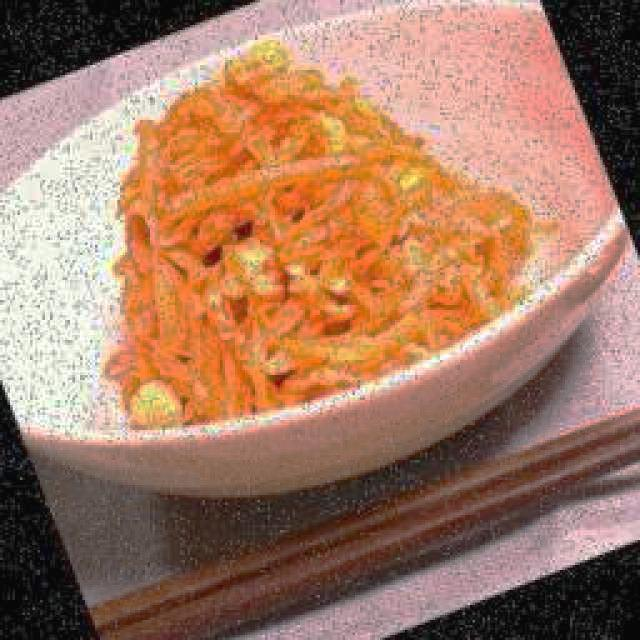carrot_eggs: (108, 38, 544, 428)
